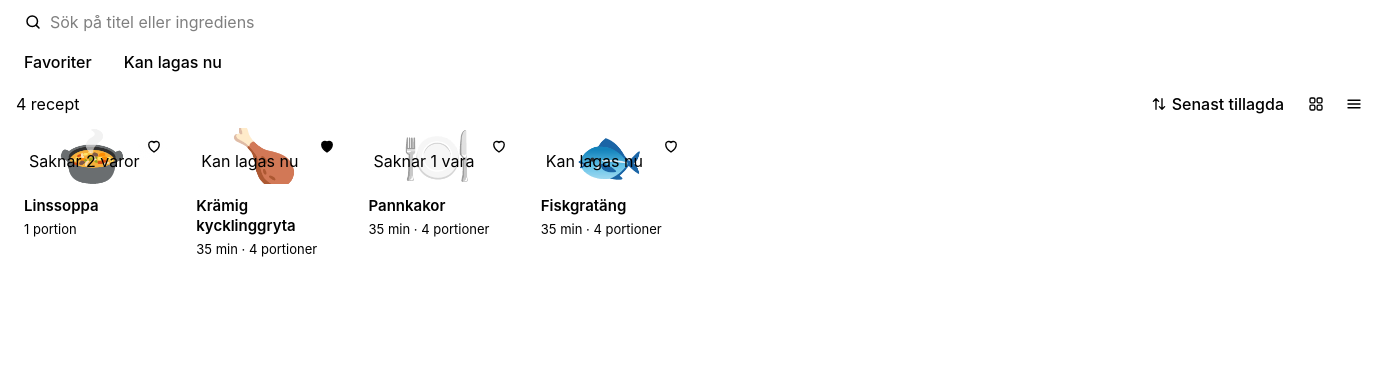
Library, the line Boende › names the search answer's place while its recipes are shown, also when it differs from the server's
Click the button "Kan lagas nu" at x=173, y=62, box [112,46,234,78]
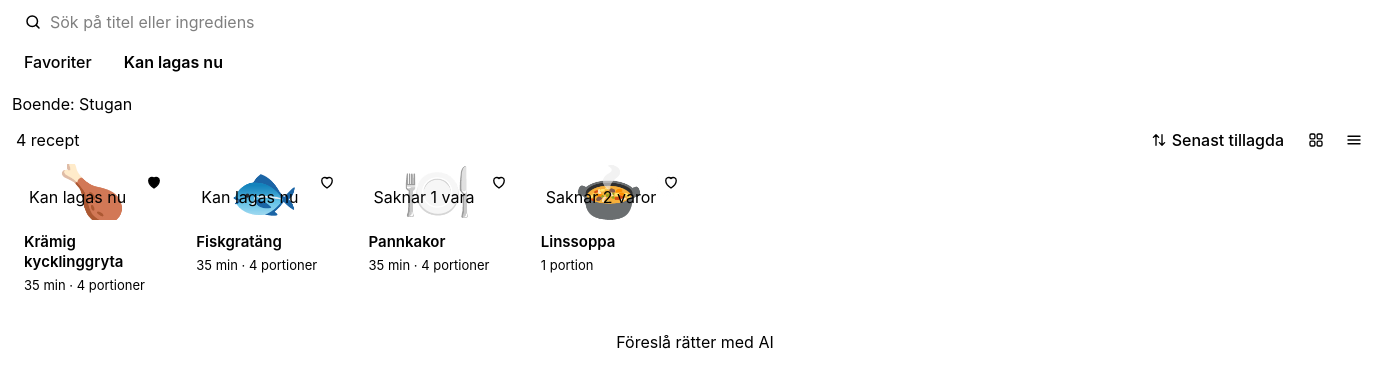
Type "lin" into the search field named "Sök recept" at x=714, y=22, box [50,12,1378,32]
Then press Enter
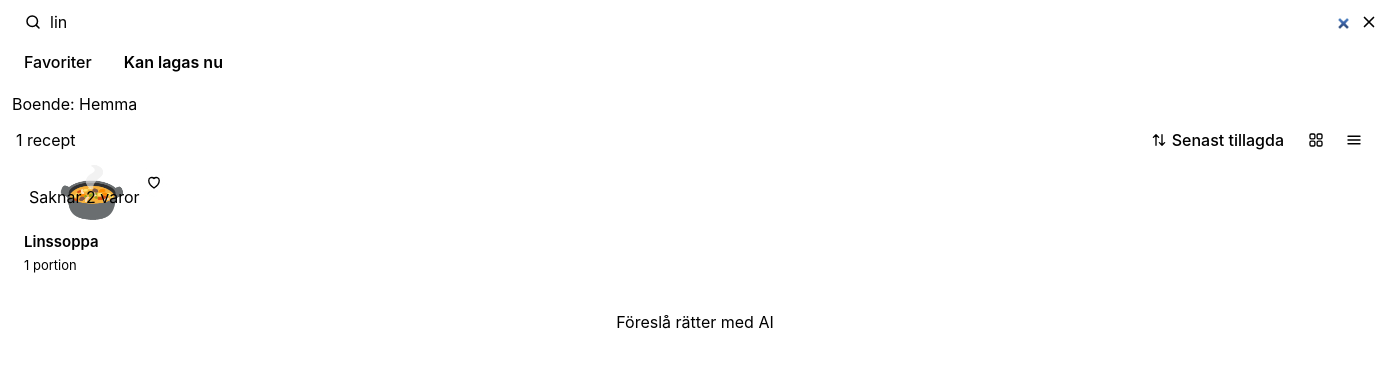
Check: the text "Boende: Hemma" is shown, box [12,94,137,114]
Check: the text "Boende: Stugan" is gone
// Back to the server's list: the server's place.
Clear the search field at x=701, y=22, box [50,12,1352,32]
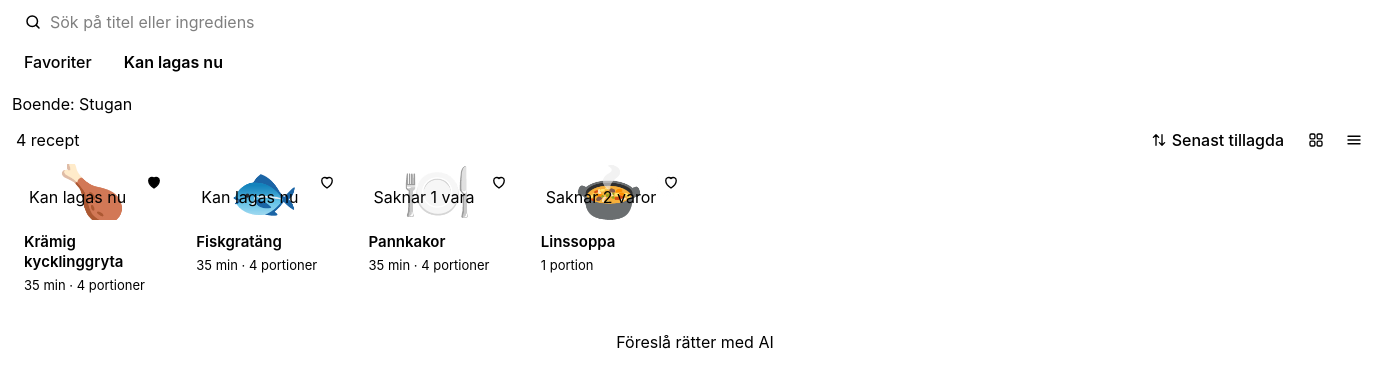
Check: the text "Boende: Stugan" is shown, box [12,94,132,114]
